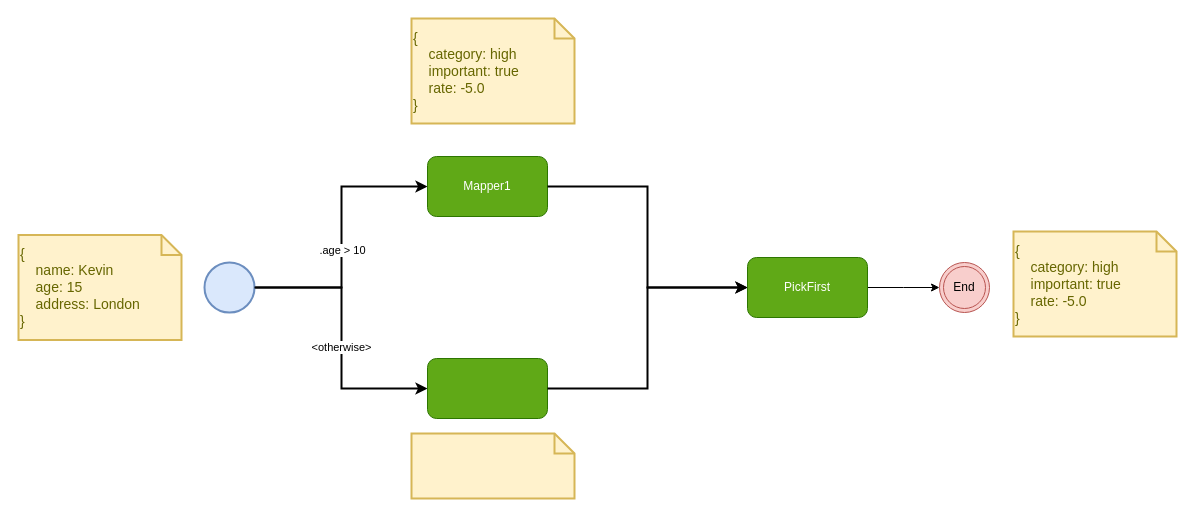
Image size: 1194x516. Some labels were removed from this diagram. The shapes that lost their labels are listed below. From the top down, each one's centre as x and y in pixels, then its label:
the point at 229,287: Start
the point at 487,388: Mapper2
the point at 492,465: { category: low }
